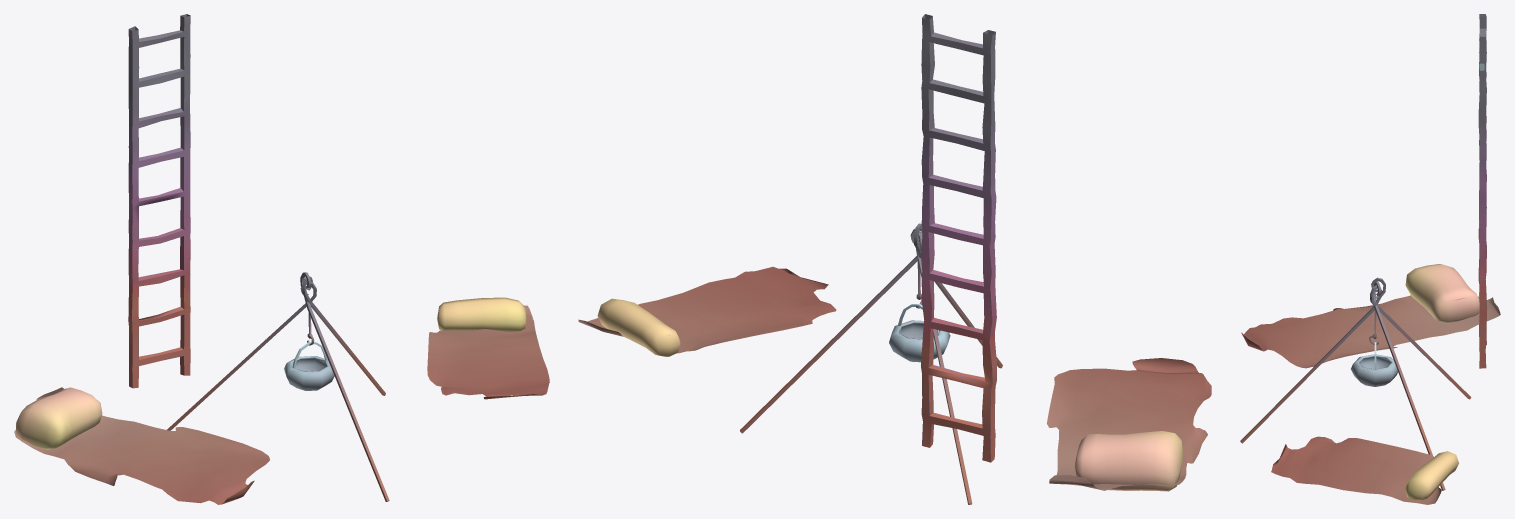
The model's file is Furniture.fbx.
3 renders of one model, left to right at view 1: azimuth 30°, elevation 25°; view 2: azimuth 150°, elevation 25°; view 3: azimuth 270°, elevation 25°, orthographic. The views are drawn at different scales.
Visible parts, largest first — view 1: Quilt_Old, Ladder, Quilt_Young, Pillow_Old, Pillow_Young, Fire, Wok; view 2: Ladder, Quilt_Old, Quilt_Young, Pillow_Old, Fire, Pillow_Young, Wok; view 3: Quilt_Old, Quilt_Young, Pillow_Old, Ladder, Fire, Pillow_Young, Wok.
Boxes of the visible parts, <box> form: Quilt_Old: <box>14,387,269,504</box>; Ladder: <box>128,14,190,388</box>; Quilt_Young: <box>427,305,549,399</box>; Pillow_Old: <box>16,387,102,449</box>; Pillow_Young: <box>437,297,526,331</box>; Fire: <box>167,272,389,501</box>; Wok: <box>284,342,334,390</box>; Ladder: <box>921,14,996,462</box>; Quilt_Old: <box>1047,358,1211,490</box>; Quilt_Young: <box>578,266,836,353</box>; Pillow_Old: <box>1074,431,1183,491</box>; Fire: <box>740,223,1002,504</box>; Pillow_Young: <box>597,298,680,356</box>; Wok: <box>889,304,950,362</box>; Quilt_Old: <box>1241,295,1500,368</box>; Quilt_Young: <box>1271,436,1441,504</box>; Pillow_Old: <box>1405,264,1479,323</box>; Ladder: <box>1478,14,1487,368</box>; Fire: <box>1240,277,1471,490</box>; Pillow_Young: <box>1405,451,1458,499</box>; Wok: <box>1351,342,1397,386</box>.
Bounding box in the file's own units: 605 × 464 × 293.
